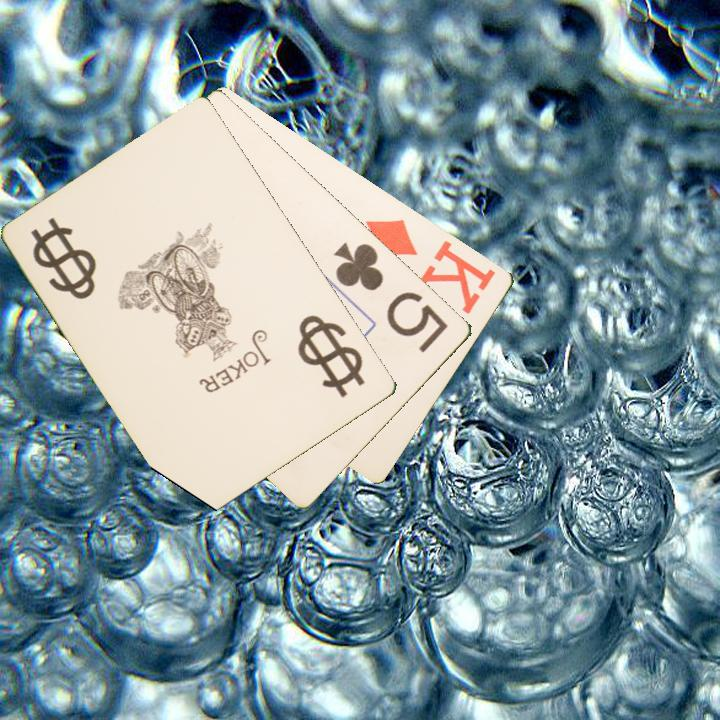5c: (330, 238, 452, 356)
JK: (27, 213, 99, 303), (301, 317, 361, 385)
Kd: (362, 215, 499, 317)
